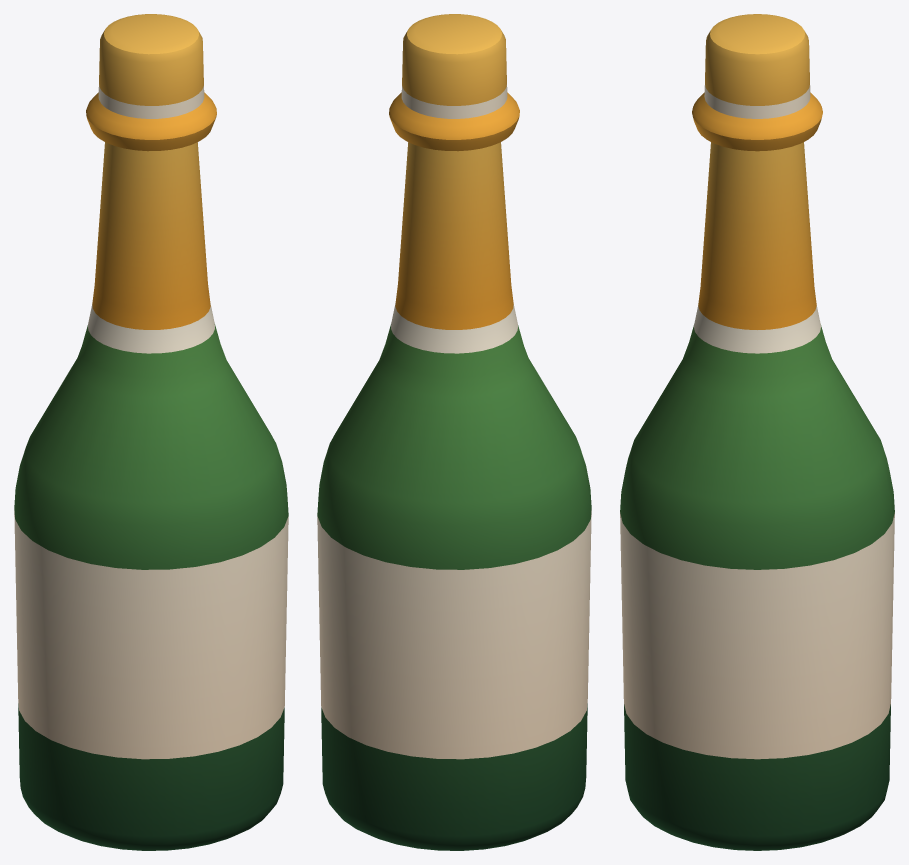
File: Champagne.fbx
3 views of the same model, side by side, from view 1: azimuth 30°, elevation 25°; view 2: azimuth 150°, elevation 25°; view 3: azimuth 270°, elevation 25° (orthographic).
Visible parts, largest first — view 1: Champagne; view 2: Champagne; view 3: Champagne.
Boxes of the visible parts, x1,y1,x2,y2 form: Champagne: (14,14,288,850); Champagne: (317,14,591,850); Champagne: (620,14,894,850).
Bounding box in the file's own units: 7.72 × 23.95 × 7.72.
